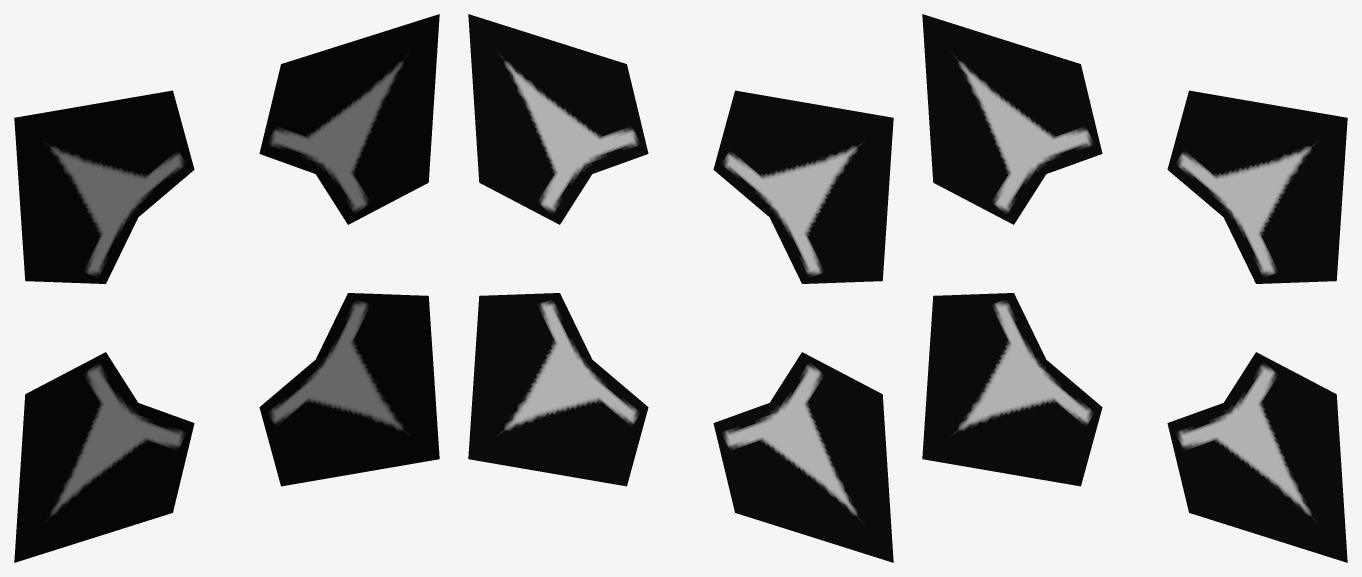
The picture shows the model from 3 angles, left to right: view 1: azimuth 30°, elevation 25°; view 2: azimuth 150°, elevation 25°; view 3: azimuth 330°, elevation 25°; orthographic projection.
Parts seen in each view (by area): view 1: Joint_0_Object_0; view 2: Joint_0_Object_0; view 3: Joint_0_Object_0.
Boxes of the visible parts, left/top/right/bottom form: Joint_0_Object_0: left=14, top=14, right=439, bottom=562; Joint_0_Object_0: left=468, top=14, right=893, bottom=562; Joint_0_Object_0: left=922, top=14, right=1347, bottom=562.
Bounding box in the file's own units: 129 × 129 × 0.
1 material, 1 textured.
